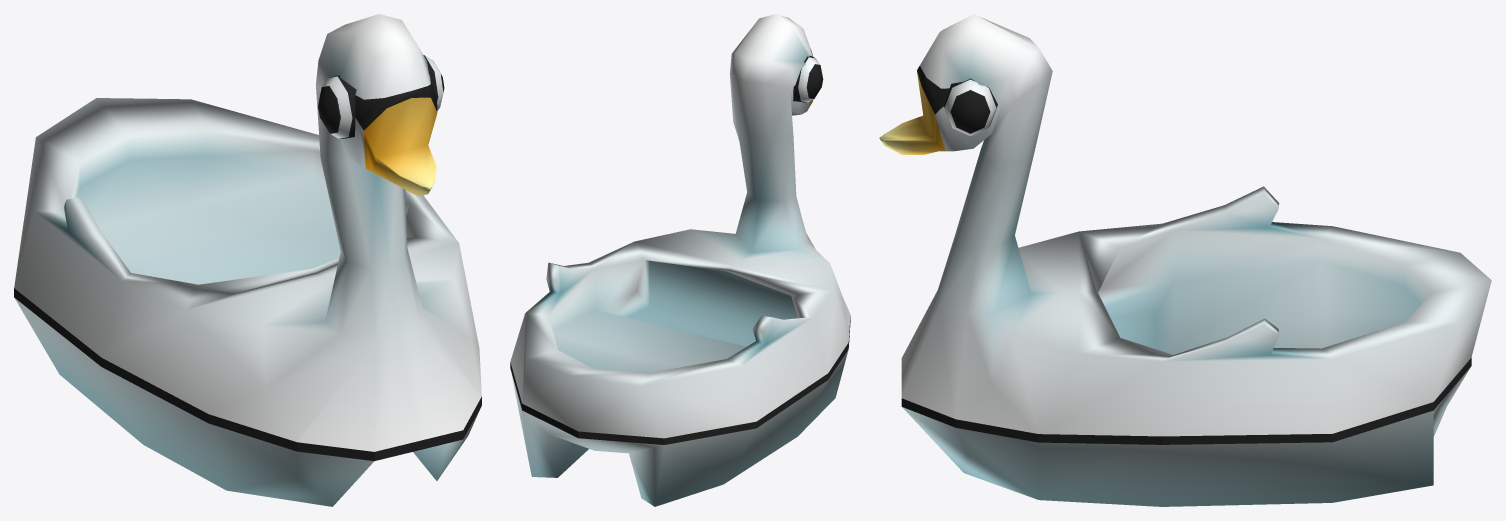
File: fbx_swanboat.fbx
3 renders of one model, left to right at view 1: azimuth 30°, elevation 25°; view 2: azimuth 150°, elevation 25°; view 3: azimuth 270°, elevation 25°, orthographic. The views are drawn at different scales.
Visible parts, largest first — view 1: geo_SwanBoat; view 2: geo_SwanBoat; view 3: geo_SwanBoat.
Boxes of the visible parts, left/top/right/bottom form: geo_SwanBoat: left=14, top=14, right=481, bottom=506; geo_SwanBoat: left=510, top=14, right=850, bottom=506; geo_SwanBoat: left=879, top=14, right=1491, bottom=506.
Bounding box in the file's own units: 9.07 × 11.79 × 15.03.
